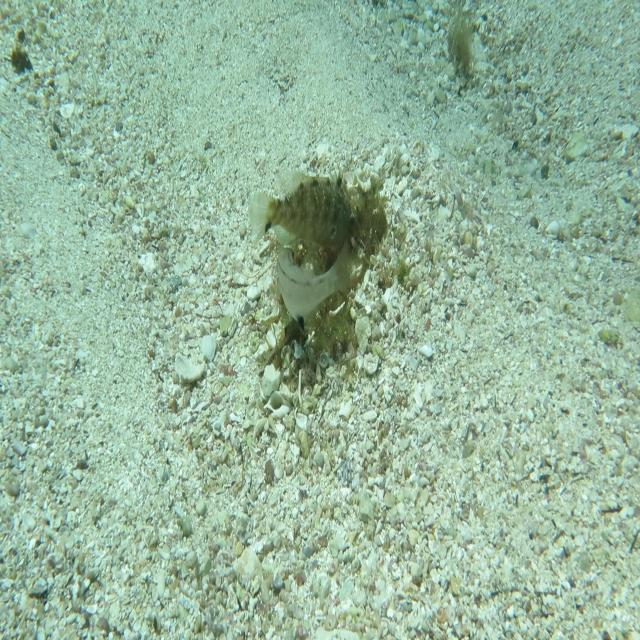NIP_CORE: (246, 165, 359, 256)
female: (277, 236, 356, 332)
nest: (259, 158, 397, 379)
